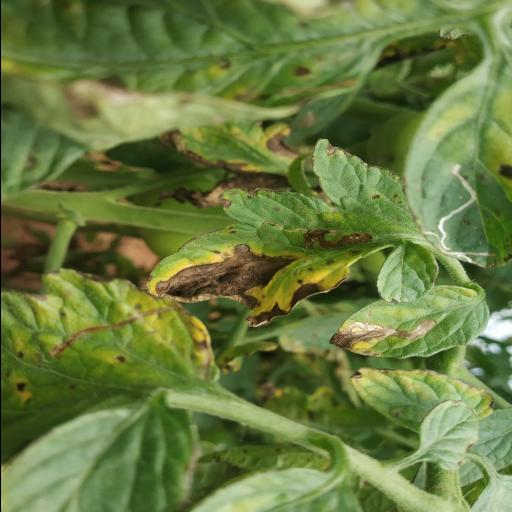disease_tomato: (143, 137, 417, 329), (328, 287, 488, 361)
